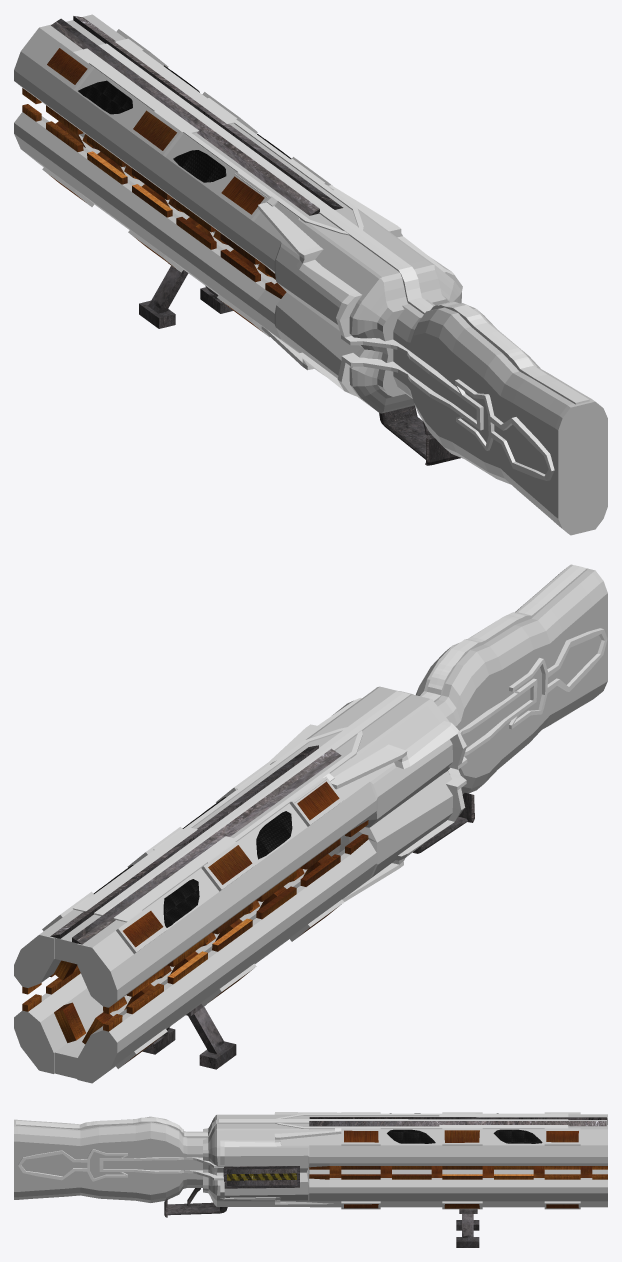
The model's file is Railgun.fbx.
3 renders of one model, top to bottom at view 1: azimuth 30°, elevation 25°; view 2: azimuth 150°, elevation 25°; view 3: azimuth 270°, elevation 25°, orthographic. The views are drawn at different scales.
Parts seen in each view (by area): view 1: Cube, Cube.011, Cube.016, Cube.015, Cube.010, Cube.009, Cube.013, Cube.012, Cube.003, Cube.004; view 2: Cube, Cube.011, Cube.016, Cube.015, Cube.010, Cube.009, Cube.012, Cube.003, Cube.004, Cube.013; view 3: Cube, Cube.011, Cube.016, Cube.015, Cube.009, Cube.010, Cube.012, Cube.013, Cube.006, Cube.007, Cube.005, Cube.002 (+1 smaller).
Boxes of the visible parts, x1,y1,x2,y2 form: Cube: (14,14,461,413); Cube.011: (393,299,607,535); Cube.016: (73,38,589,404); Cube.015: (258,185,554,480); Cube.010: (51,18,319,215); Cube.009: (73,16,343,209); Cube.013: (379,405,460,465); Cube.012: (139,263,233,328); Cube.003: (78,80,132,114); Cube.004: (173,150,226,182); Cube: (14,686,452,1083); Cube.011: (416,564,607,794); Cube.016: (72,565,587,922); Cube.015: (268,628,607,901); Cube.010: (72,748,341,944); Cube.009: (50,745,318,938); Cube.012: (142,1004,236,1069); Cube.003: (163,879,199,927); Cube.004: (256,811,292,859); Cube.013: (413,793,474,853); Cube: (203,1112,607,1209); Cube.011: (14,1116,206,1202); Cube.016: (16,1113,568,1137); Cube.015: (18,1112,341,1204); Cube.009: (309,1121,606,1126); Cube.010: (309,1117,606,1119); Cube.012: (456,1209,479,1247); Cube.013: (164,1199,227,1217); Cube.006: (227,1175,296,1185); Cube.007: (227,1168,296,1178); Cube.005: (223,1166,299,1188); Cube.002: (493,1129,542,1143).
Size of the model in its own units: 22.65 by 35.68 by 163.
